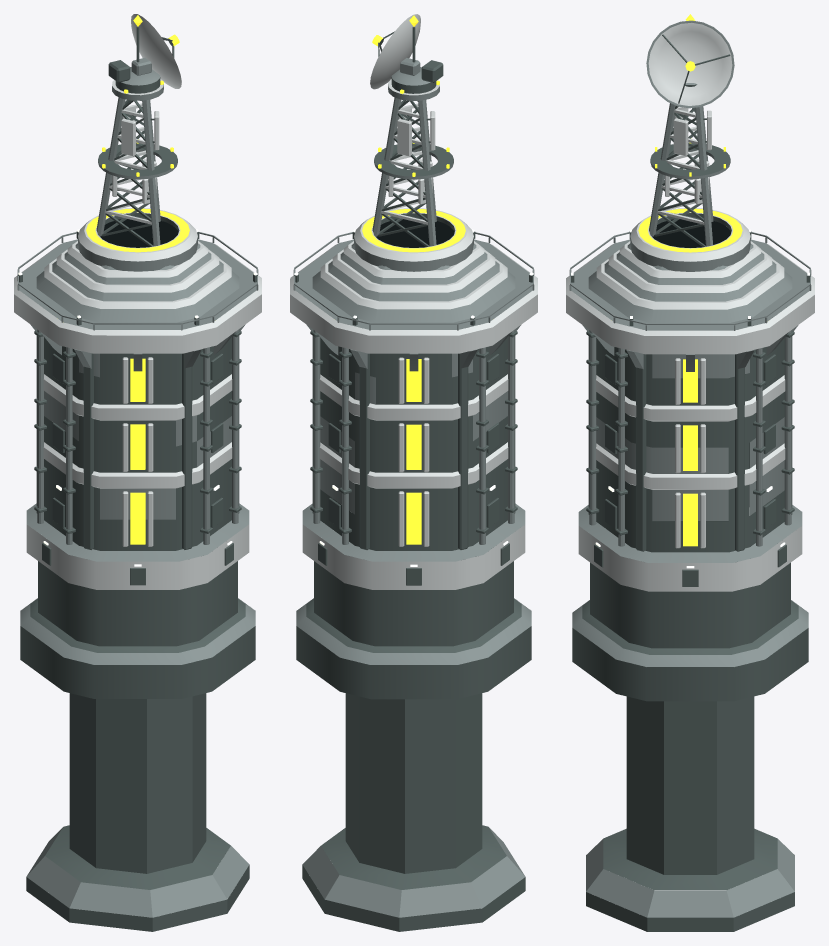
File: torre-suporte.glb
The picture shows the model from 3 angles, left to right: view 1: azimuth 30°, elevation 25°; view 2: azimuth 150°, elevation 25°; view 3: azimuth 270°, elevation 25°; orthographic projection.
Parts seen in each view (by area): view 1: torre_suporte, suporte_nucleo; view 2: torre_suporte, suporte_nucleo; view 3: torre_suporte, suporte_nucleo.
Boxes of the visible parts, x1=… form: torre_suporte: x1=14, y1=79, x2=261, y2=931; suporte_nucleo: x1=108, y1=14, x2=181, y2=93; torre_suporte: x1=290, y1=79, x2=537, y2=931; suporte_nucleo: x1=370, y1=14, x2=443, y2=93; torre_suporte: x1=566, y1=103, x2=814, y2=931; suporte_nucleo: x1=646, y1=14, x2=734, y2=108.
Size of the model in its own units: 37.4 by 153 by 39.6.
